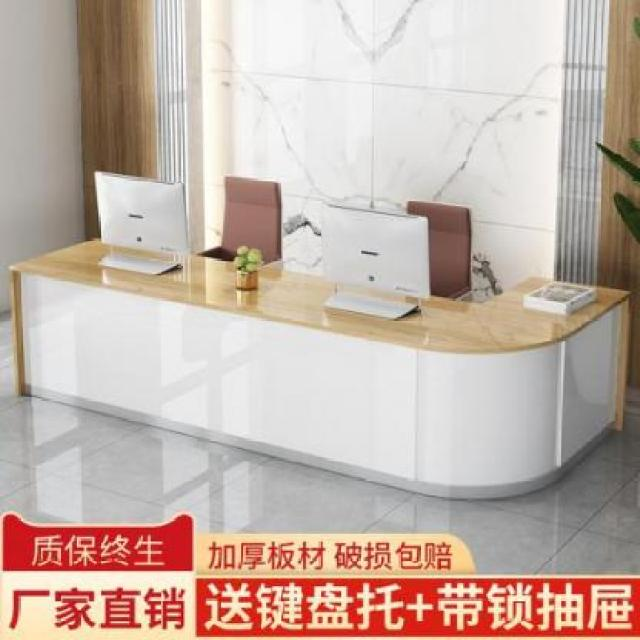frontdesk: (0, 209, 632, 500)
